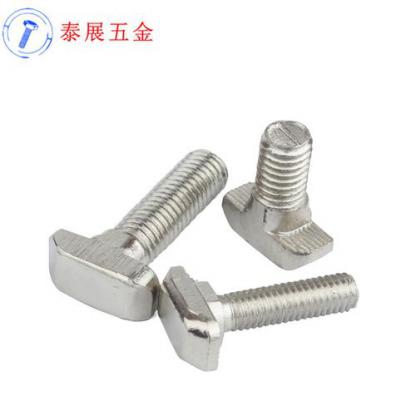FOD: (44, 148, 228, 318), (154, 263, 359, 373), (222, 118, 336, 273)
